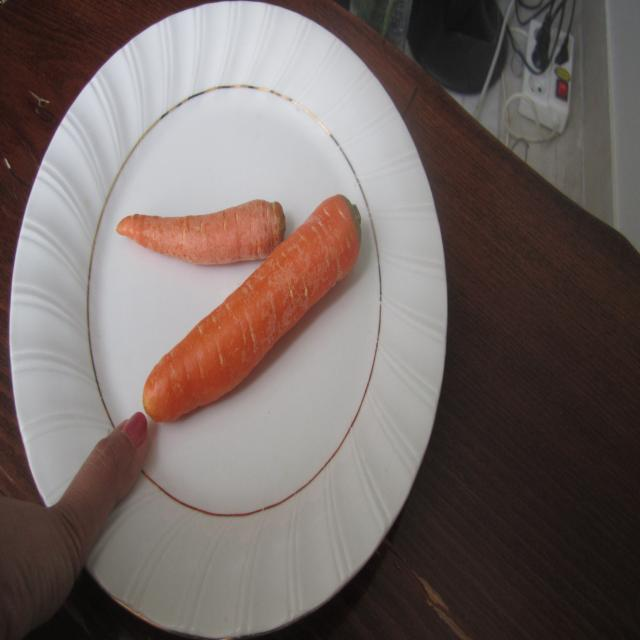carrot: (121, 193, 388, 446)
